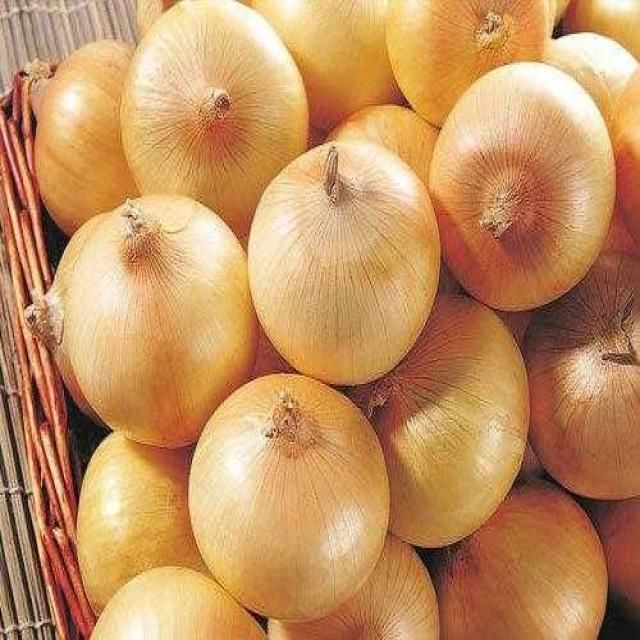onion: (48, 193, 258, 449), (187, 369, 389, 623), (247, 136, 442, 388), (428, 61, 616, 312), (119, 2, 310, 240), (367, 292, 530, 549), (519, 247, 640, 500), (440, 479, 607, 640), (77, 427, 202, 616), (386, 0, 552, 128), (32, 39, 137, 239), (272, 532, 440, 640), (260, 2, 403, 121), (87, 566, 265, 640), (332, 101, 439, 193), (545, 33, 634, 104), (589, 498, 640, 614), (613, 61, 640, 252), (567, 0, 639, 63)
